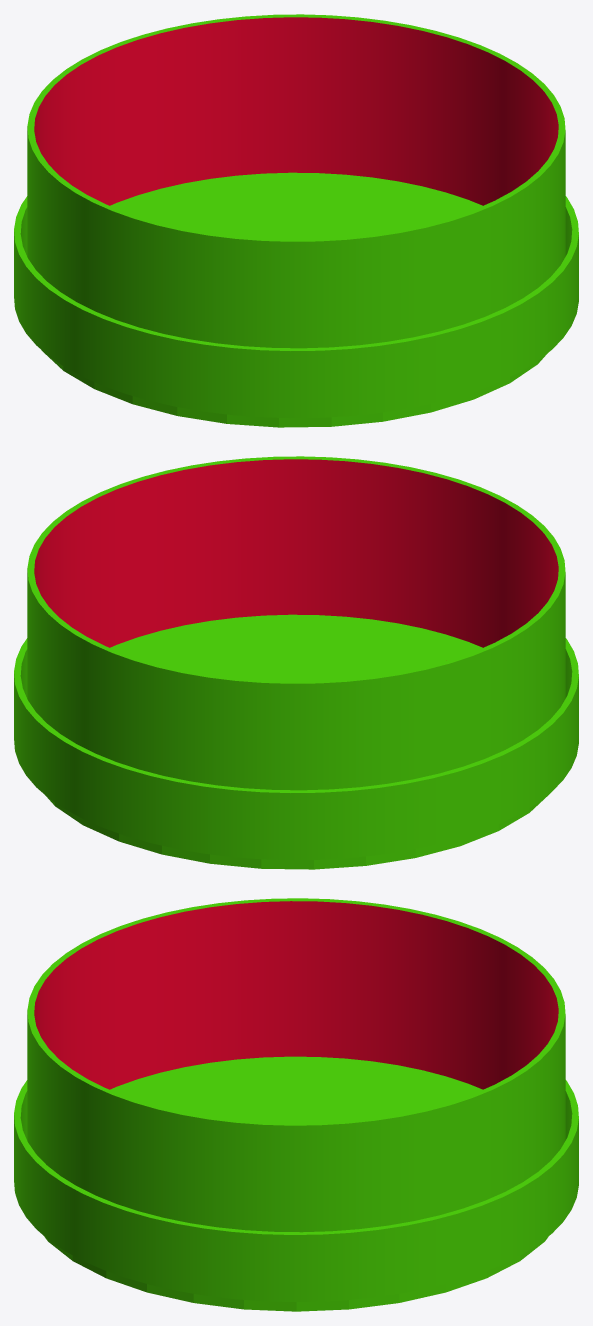
Rendered from green_tin.dae.
3 renders of one model, top to bottom at view 1: azimuth 30°, elevation 25°; view 2: azimuth 150°, elevation 25°; view 3: azimuth 270°, elevation 25°, orthographic.
Visible parts, largest first — view 1: SketchUp.001, SketchUp, SketchUp.002, Cylinder, SketchUp.003; view 2: SketchUp.001, SketchUp, SketchUp.002, Cylinder, SketchUp.003; view 3: SketchUp.001, SketchUp, SketchUp.002, Cylinder, SketchUp.003.
Part boxes in pixels (<box>): SketchUp.001: <box>34,17,558,205</box>; SketchUp: <box>27,14,565,348</box>; SketchUp.002: <box>14,196,578,418</box>; Cylinder: <box>41,172,547,427</box>; SketchUp.003: <box>20,207,572,256</box>; SketchUp.001: <box>34,459,558,647</box>; SketchUp: <box>27,456,565,790</box>; SketchUp.002: <box>14,638,578,860</box>; Cylinder: <box>45,614,550,869</box>; SketchUp.003: <box>20,649,572,698</box>; SketchUp.001: <box>34,901,558,1089</box>; SketchUp: <box>27,898,565,1232</box>; SketchUp.002: <box>14,1080,578,1301</box>; Cylinder: <box>44,1056,548,1311</box>; SketchUp.003: <box>20,1091,572,1139</box>.
Bounding box in the file's own units: 0.084 × 0.084 × 0.0305.
